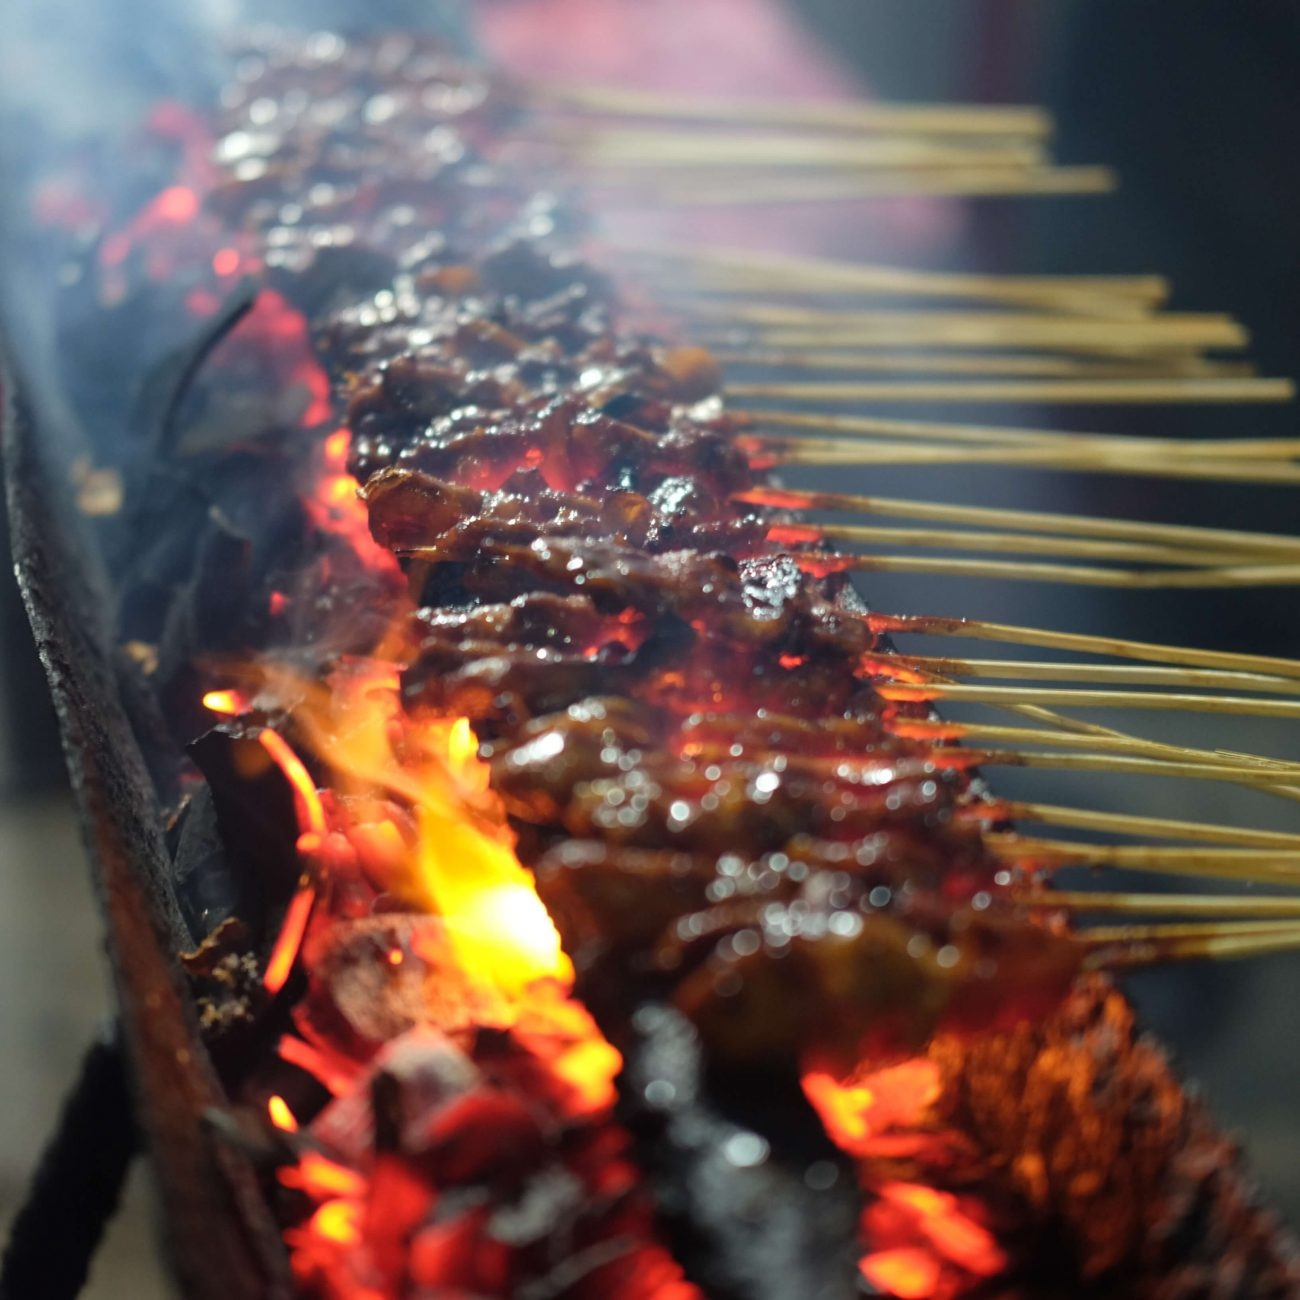sate_madura: (204, 6, 1260, 1085)
